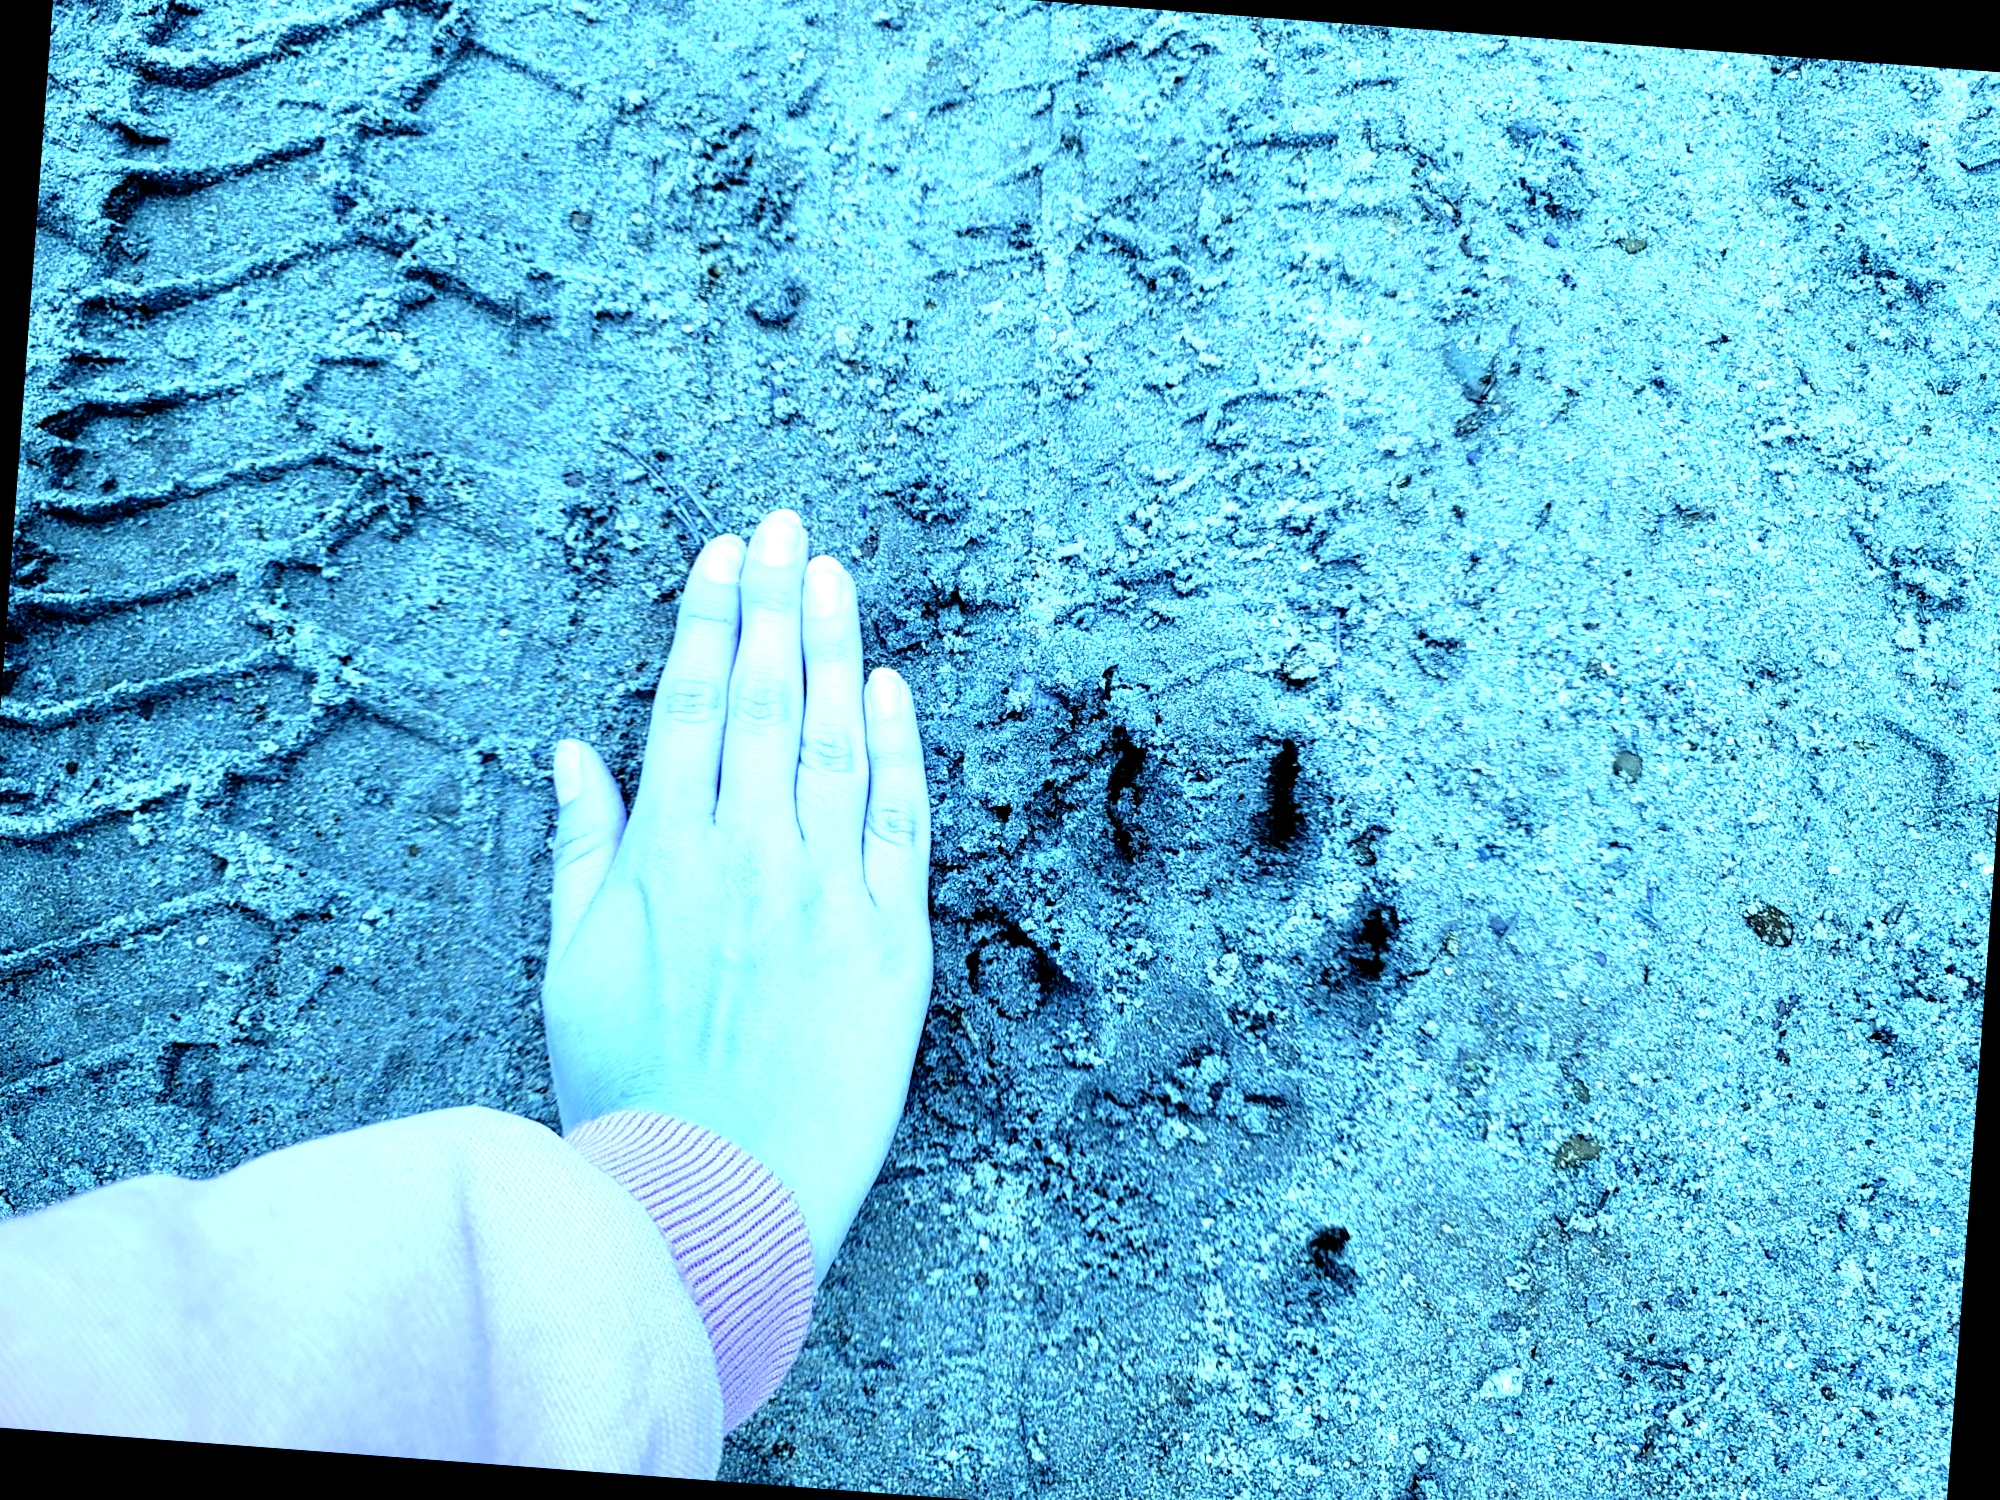loup: (913, 602, 1498, 1380)
